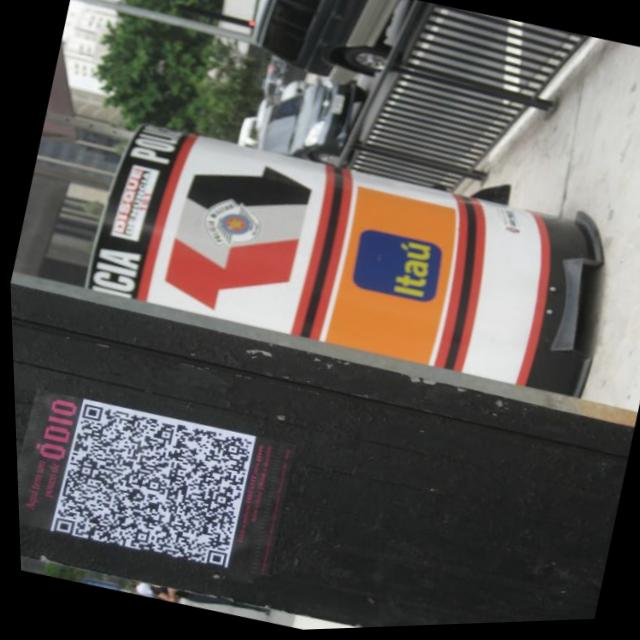qrcode: (47, 400, 253, 573)
